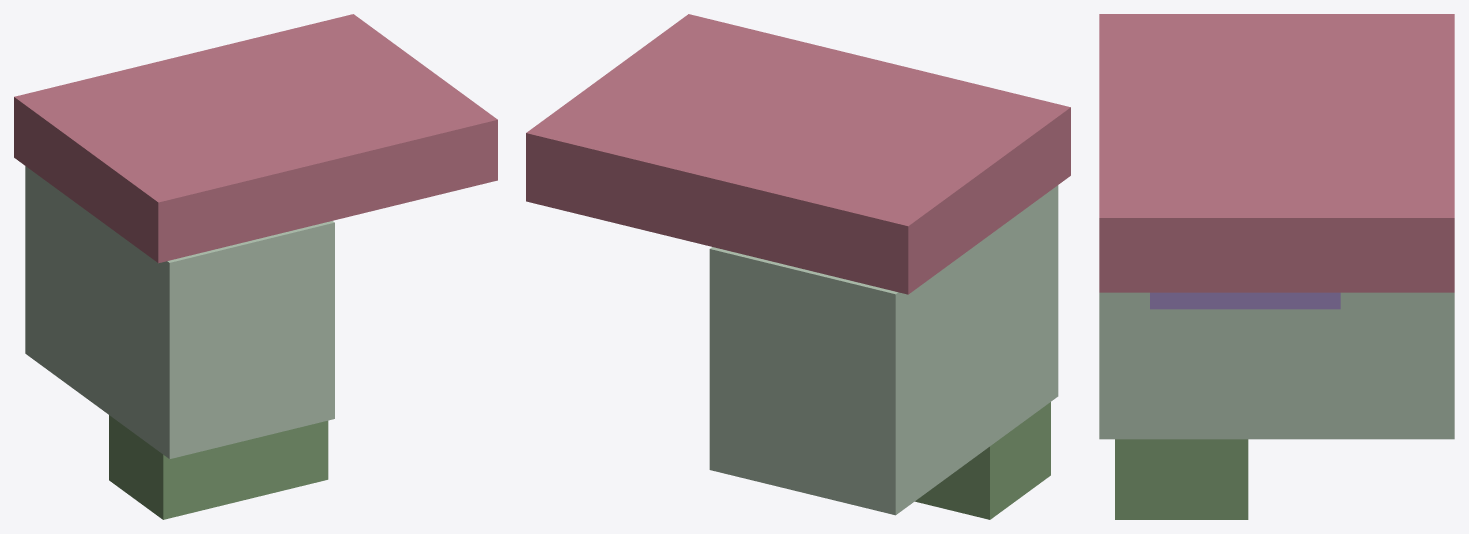
The model's file is 199502_pred.glb.
3 views of the same model, side by side, from view 1: azimuth 30°, elevation 25°; view 2: azimuth 150°, elevation 25°; view 3: azimuth 270°, elevation 25° (orthographic). The views are drawn at different scales.
Parts seen in each view (by area): view 1: world; view 2: world; view 3: world.
Boxes of the visible parts, x1=… form: world: x1=14, y1=14, x2=497, y2=519; world: x1=526, y1=14, x2=1070, y2=519; world: x1=1099, y1=14, x2=1454, y2=519.
Size of the model in its own units: 7.6 by 6.95 by 5.6.
